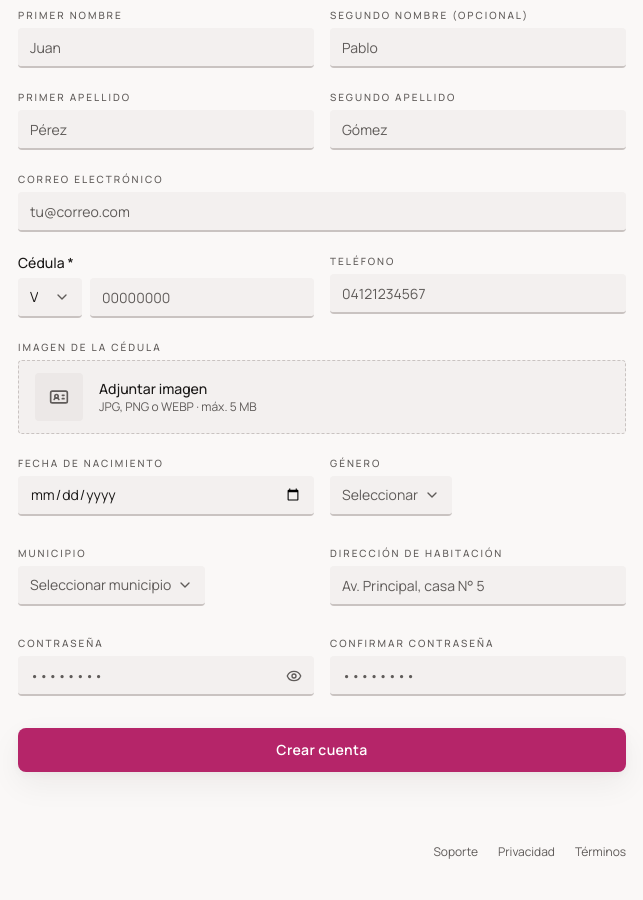
Página de registro › muestra los errores de los campos obligatorios al enviar vacío
This screenshot has width=643, height=900.
(page scrolled)
Click the button "Crear cuenta" at (322, 750), box [18,728,626,772]
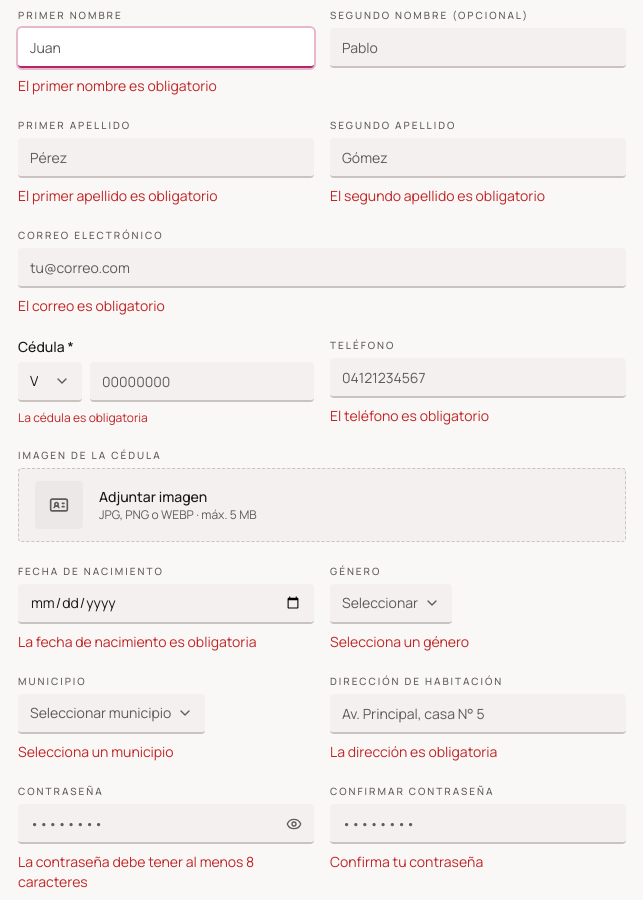
expect the text "El primer nombre es obligatorio" is shown: met, box [18,76,217,95]
expect the text "El primer apellido es obligatorio" is shown: met, box [18,186,218,205]
expect the text "El segundo apellido es obligatorio" is shown: met, box [330,186,545,205]
